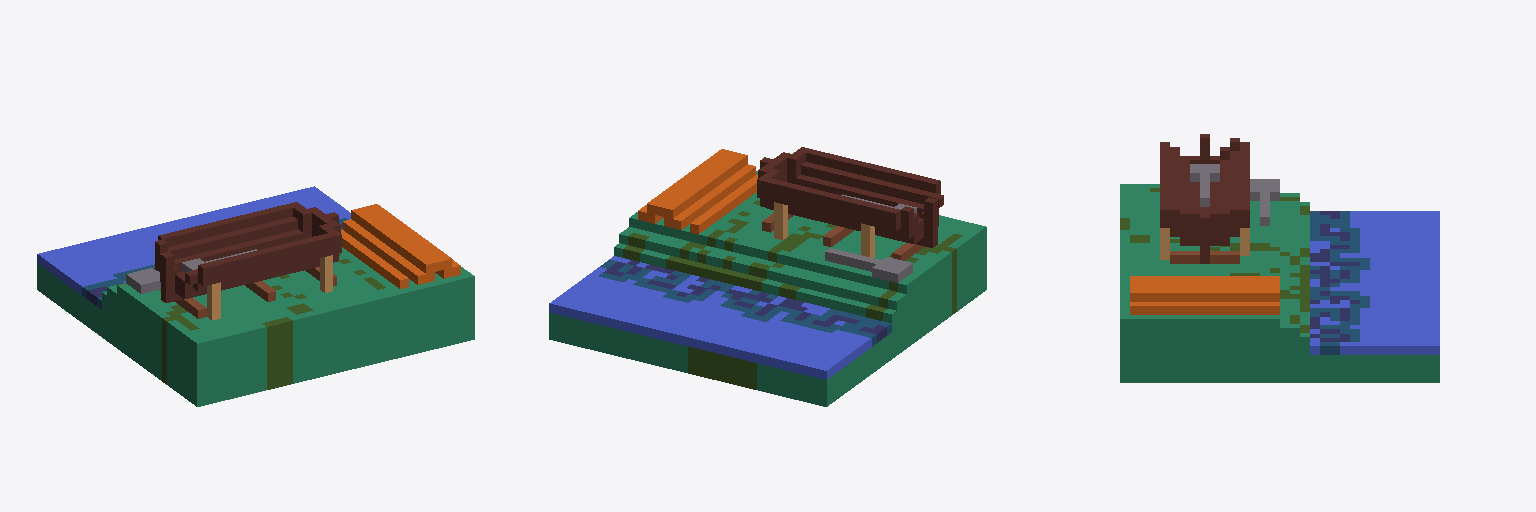
3 renders of one model, left to right at view 1: azimuth 30°, elevation 25°; view 2: azimuth 150°, elevation 25°; view 3: azimuth 270°, elevation 25°, orthographic.
Parts seen in each view (by area): view 1: object 1; view 2: object 1; view 3: object 1.
Part boxes in pixels (x1,y1,x2,y2): object 1: (37,186,474,406); object 1: (549,147,986,406); object 1: (1120,134,1439,382).
Size of the model in its own units: 3.2 by 1.3 by 3.2.
Materials: 1 (1 with a texture image).